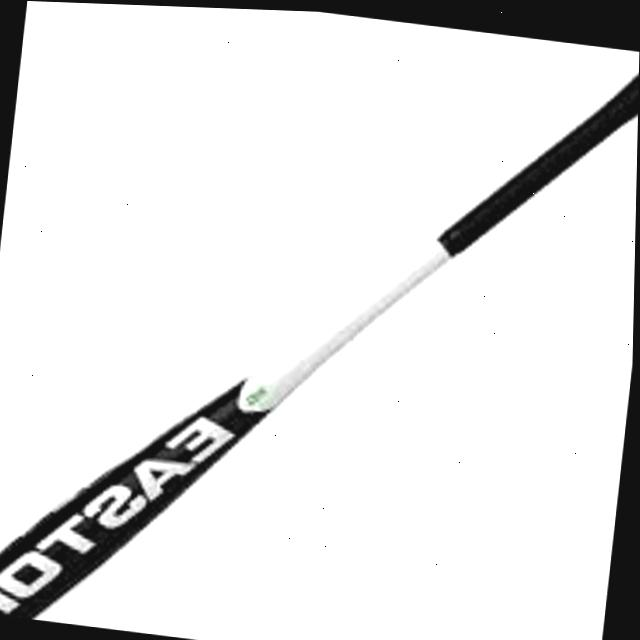baseball bat: (0, 53, 639, 618)
